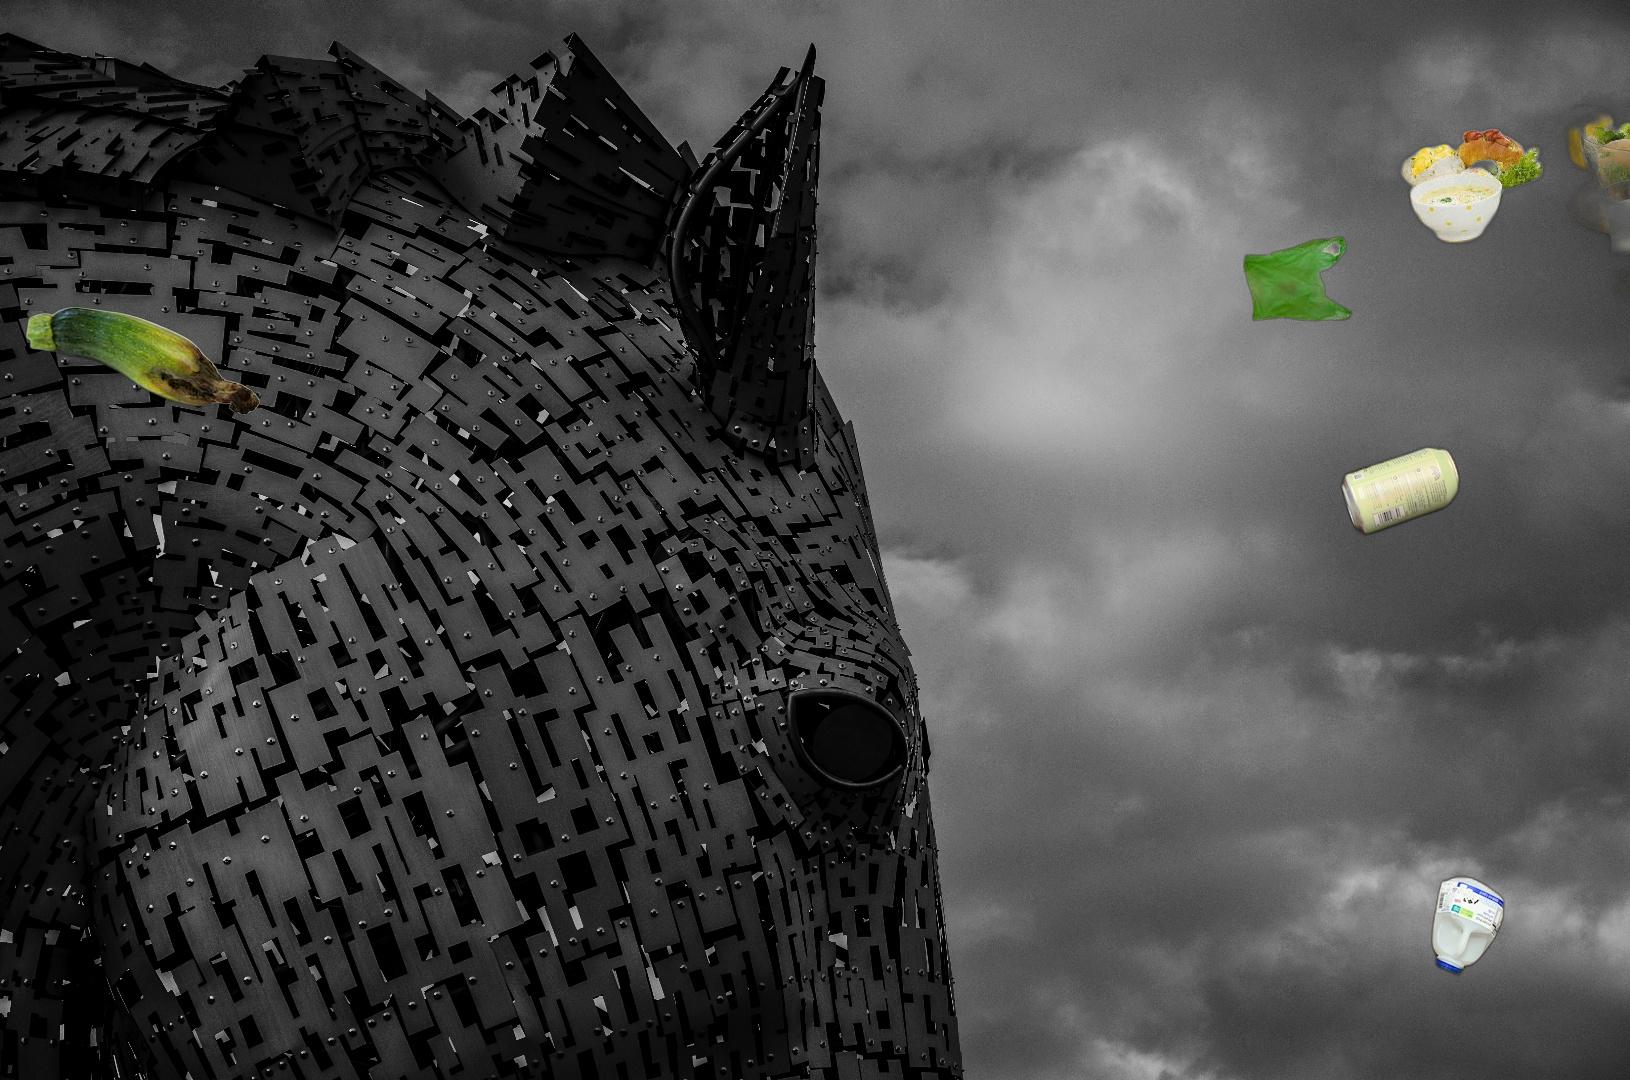biological: (1379, 75, 1630, 334), (23, 304, 263, 418)
metal-cans: (1337, 441, 1464, 540)
plastic-bag: (1242, 235, 1355, 322)
plastic-bottles: (1428, 871, 1510, 980)
